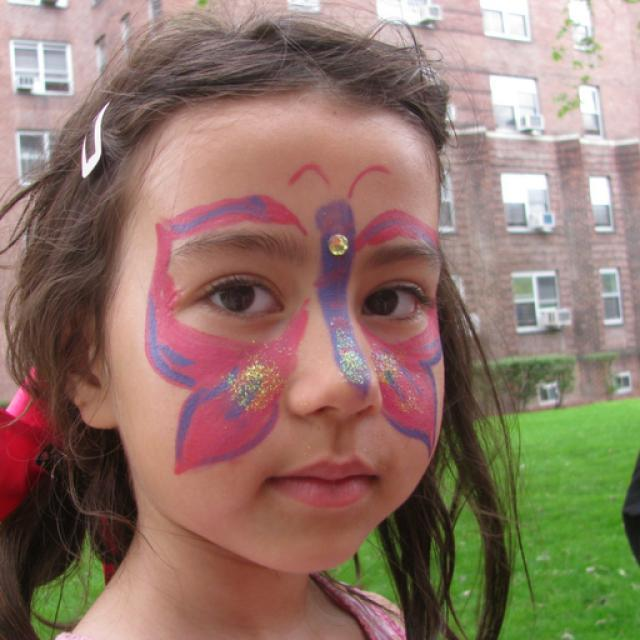sad: (112, 95, 446, 574)
